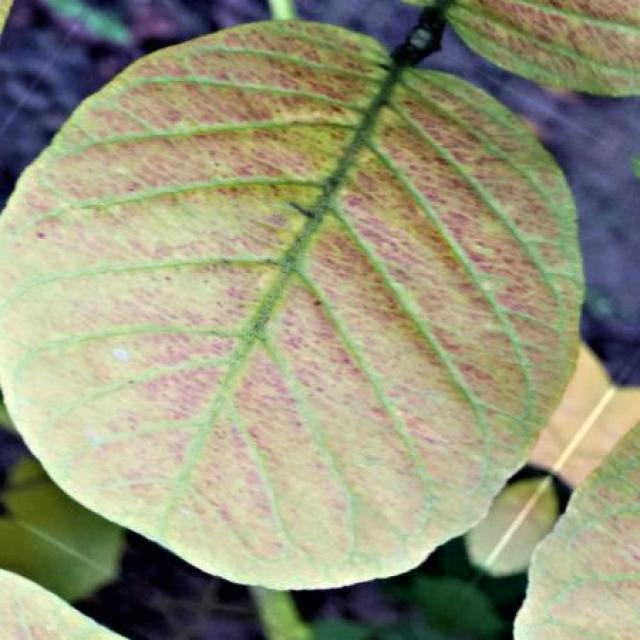Red Rust: (0, 0, 639, 588)
